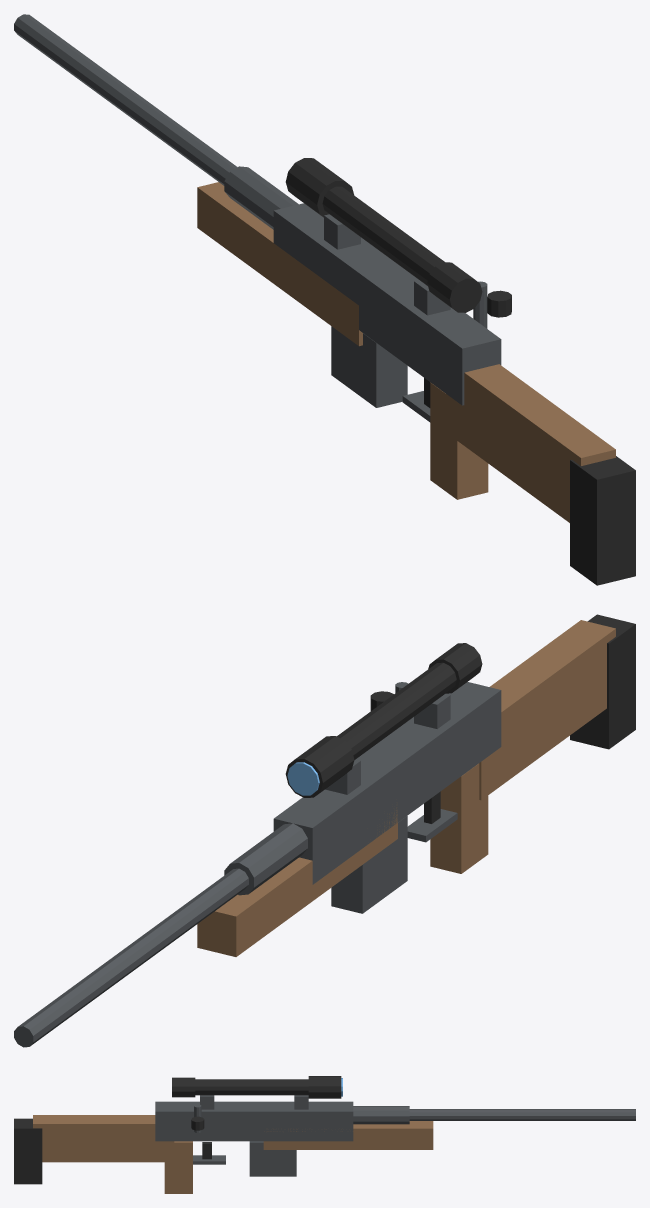
The model's file is rifle.glb.
3 views of the same model, one above another, from view 1: azimuth 30°, elevation 25°; view 2: azimuth 150°, elevation 25°; view 3: azimuth 270°, elevation 25° (orthographic). The views are drawn at different scales.
Visible parts, largest first — view 1: Rifle; view 2: Rifle; view 3: Rifle.
Part boxes in pixels (bbox=[...]): Rifle: bbox=[14, 14, 635, 585]; Rifle: bbox=[14, 614, 635, 1047]; Rifle: bbox=[14, 1076, 635, 1193].
Bounding box in the file's own units: 0.1133 × 0.264 × 1.32.
